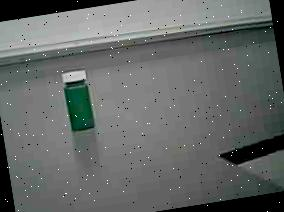Bottle C: (50, 60, 108, 142)
